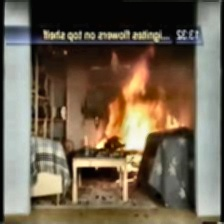fire: (95, 43, 173, 147)
